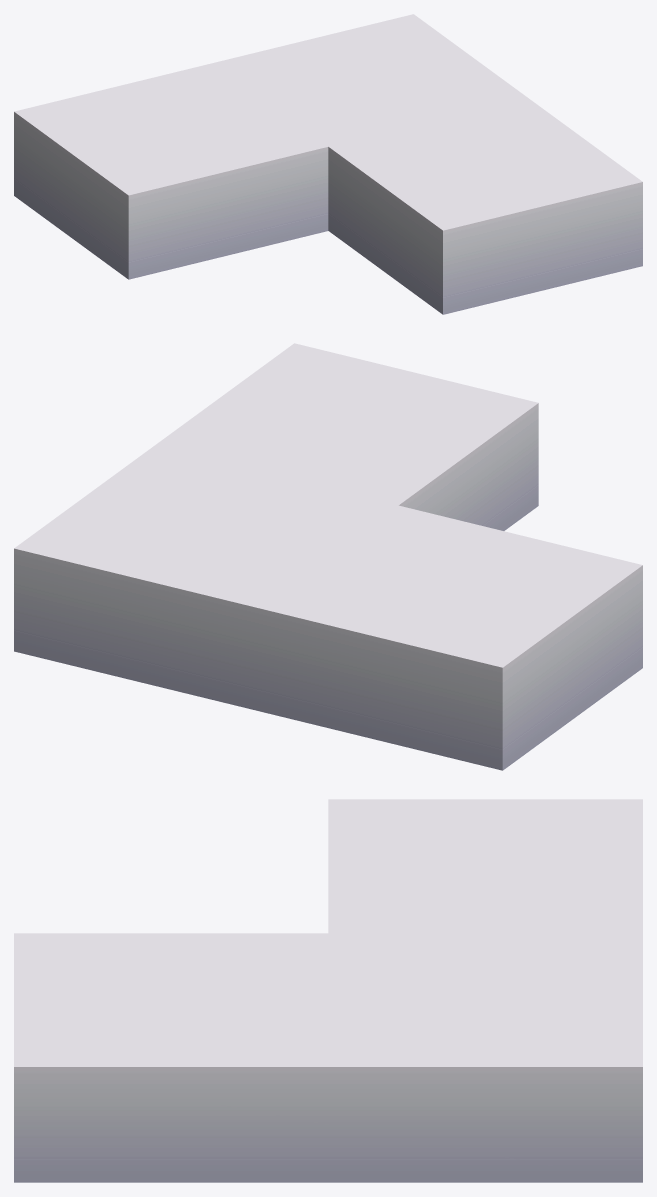
Rendered from none-lq-plate-corner.glb.
3 views of the same model, one above another, from view 1: azimuth 30°, elevation 25°; view 2: azimuth 150°, elevation 25°; view 3: azimuth 270°, elevation 25° (orthographic). The views are drawn at different scales.
Visible parts, largest first — view 1: none-lq-plate-corner; view 2: none-lq-plate-corner; view 3: none-lq-plate-corner.
Part boxes in pixels (x1,y1,x2,y2): none-lq-plate-corner: (14, 14, 642, 314); none-lq-plate-corner: (14, 343, 642, 770); none-lq-plate-corner: (14, 799, 642, 1182).
Bounding box in the file's own units: 0.159 × 0.032 × 0.158.
Materials: 1 (1 with a texture image).
